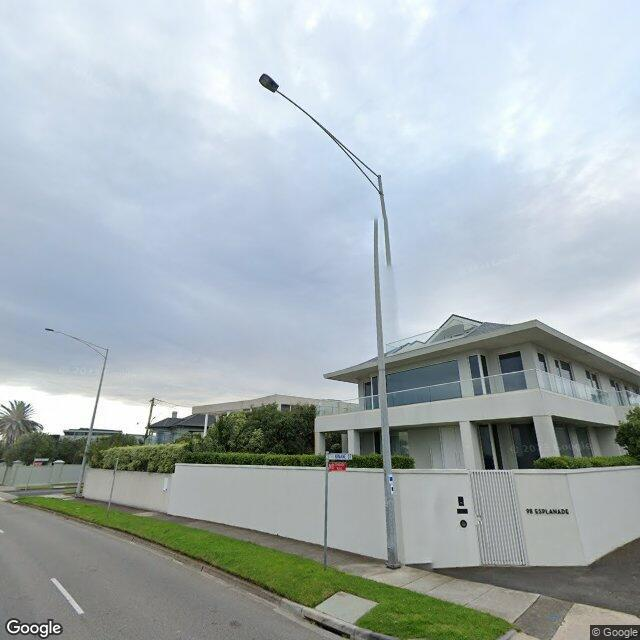steel-pole: (374, 176, 401, 569), (76, 349, 108, 497)
streetlight: (259, 74, 382, 195), (45, 328, 107, 359)
timber-pole: (145, 398, 154, 440)
